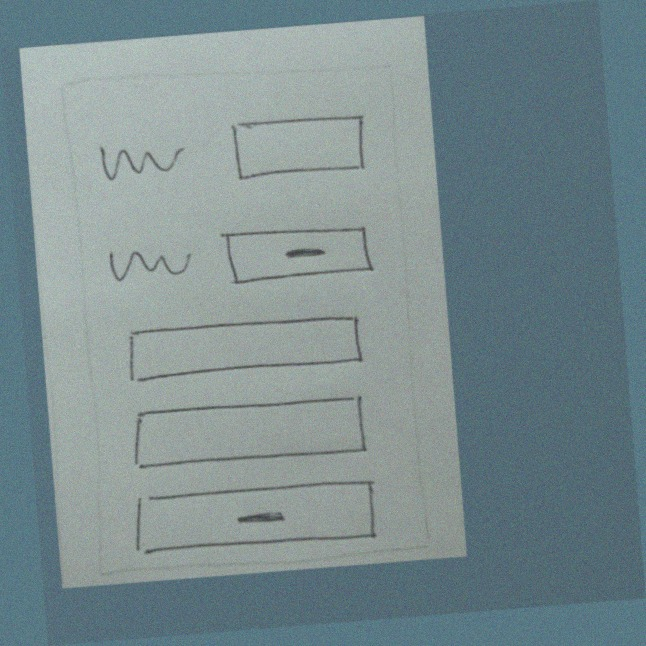button: (128, 473, 386, 562), (215, 212, 378, 292)
text: (92, 125, 190, 194), (102, 233, 201, 295)
text_input: (116, 301, 382, 393), (123, 385, 372, 478), (224, 105, 373, 195)
